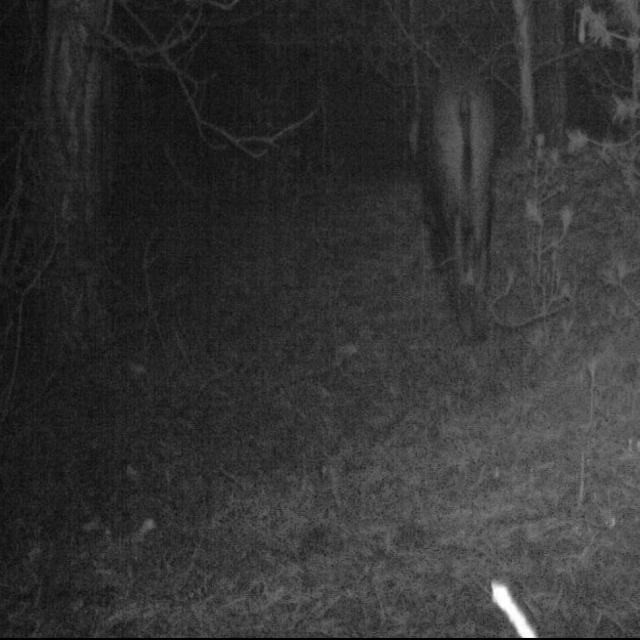pig: (378, 41, 503, 352)
